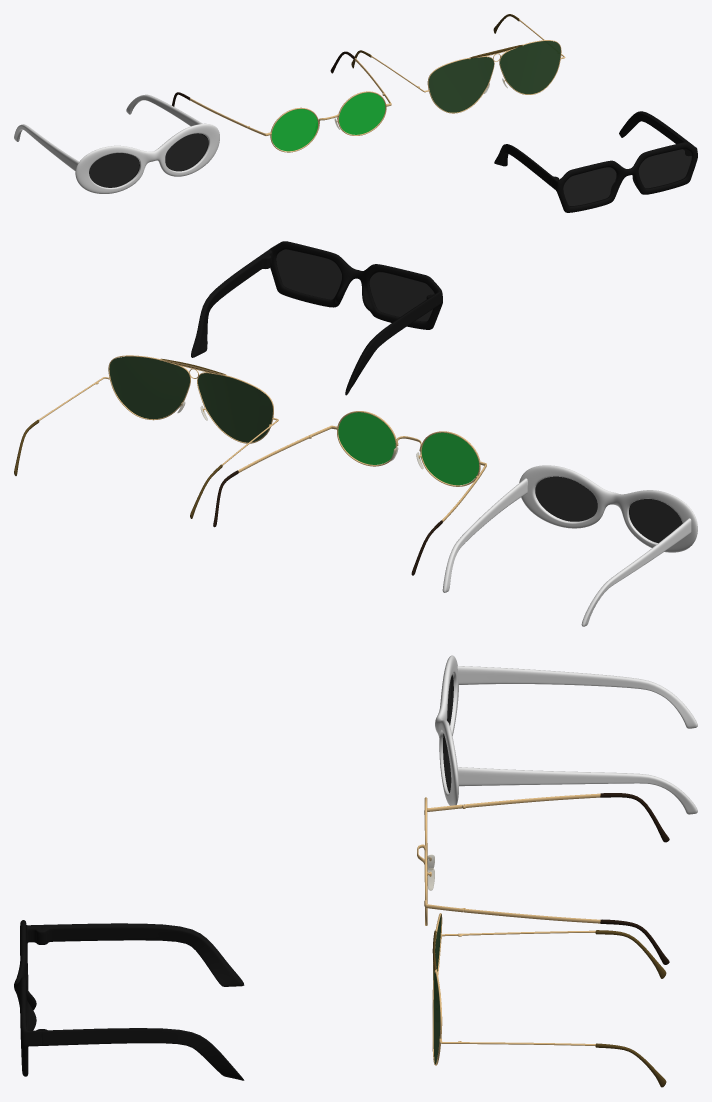
The model's file is sunglasses_pack.glb.
The picture shows the model from 3 angles, top to bottom: view 1: azimuth 30°, elevation 25°; view 2: azimuth 150°, elevation 25°; view 3: azimuth 270°, elevation 25°; orthographic projection. The views are drawn at different scales.
Parts seen in each view (by area): view 1: Cube.008, Cube.010, Plane, Cylinder.005, Cube.002, Cube.004, Plane.002, Cube.005, Cube.006, Cylinder.004, Cube.009; view 2: Cube.008, Cube.010, Cylinder.005, Plane, Cube.002, Cube.004, Plane.002, Cube.005, Cube.009, Cylinder.004, Cube.006; view 3: Cube.010, Plane.002, Cube.005, Cube.002, Cube.009, Cube.008.
Boxes of the visible parts, bbox=[...] form: Cube.008: bbox=[428, 41, 560, 112]; Cube.010: bbox=[494, 111, 697, 212]; Plane: bbox=[563, 149, 692, 206]; Cylinder.005: bbox=[271, 92, 385, 151]; Cube.002: bbox=[75, 123, 219, 193]; Cube.004: bbox=[89, 133, 208, 187]; Plane.002: bbox=[14, 94, 202, 171]; Cube.005: bbox=[172, 51, 391, 135]; Cube.006: bbox=[427, 40, 561, 113]; Cylinder.004: bbox=[270, 91, 386, 152]; Cube.009: bbox=[351, 14, 565, 92]; Cube.008: bbox=[109, 356, 272, 442]; Cube.010: bbox=[191, 241, 442, 395]; Cylinder.005: bbox=[338, 412, 479, 485]; Plane: bbox=[276, 249, 434, 321]; Cube.002: bbox=[519, 465, 697, 552]; Cube.004: bbox=[535, 476, 682, 543]; Plane.002: bbox=[442, 478, 691, 626]; Cube.005: bbox=[213, 425, 486, 575]; Cube.009: bbox=[14, 377, 278, 518]; Cylinder.004: bbox=[337, 411, 480, 486]; Cube.006: bbox=[108, 355, 273, 443]; Cube.010: bbox=[14, 920, 244, 1080]; Plane.002: bbox=[457, 666, 697, 814]; Cube.005: bbox=[417, 793, 669, 964]; Cube.002: bbox=[435, 655, 458, 805]; Cube.009: bbox=[439, 930, 666, 1087]; Cube.008: bbox=[433, 915, 441, 1063].
Size of the model in its own units: 4.29 by 0.4577 by 3.32.
